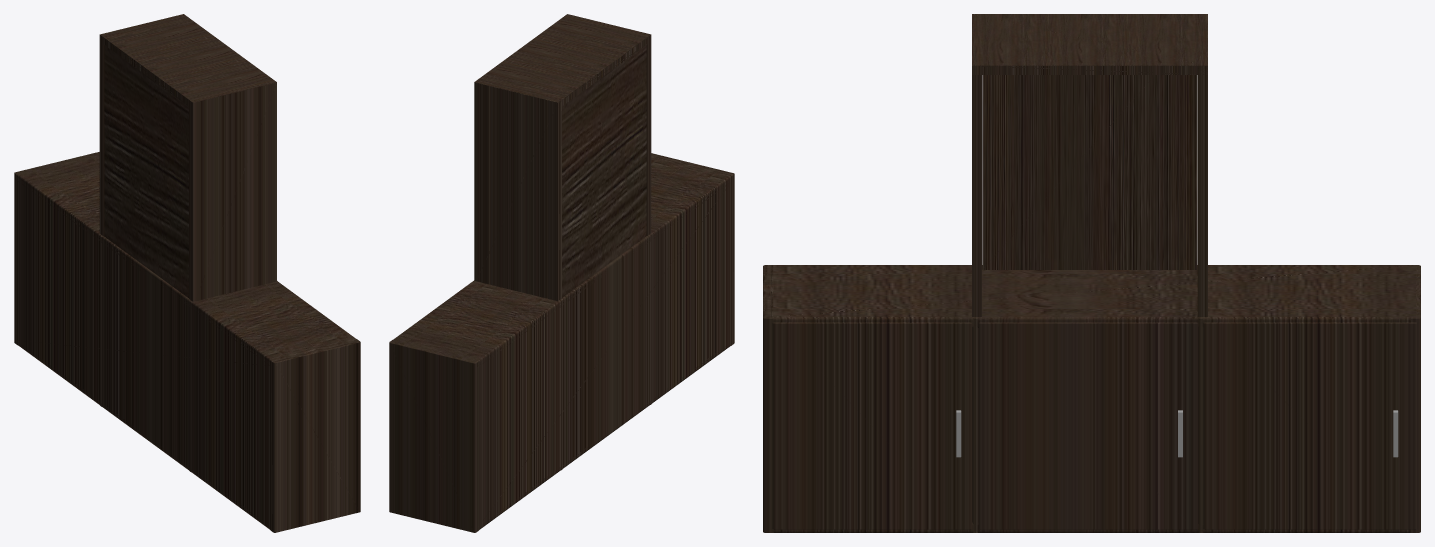
Rendered from Lemari_Ruang_Tamu.fbx.
The picture shows the model from 3 angles, left to right: view 1: azimuth 30°, elevation 25°; view 2: azimuth 150°, elevation 25°; view 3: azimuth 270°, elevation 25°; orthographic projection. The views are drawn at different scales.
Parts seen in each view (by area): view 1: pCube26, pCube29, pCube31, pCube30, pCube28; view 2: pCube26, pCube28, pCube31, pCube30, pCube29; view 3: pCube26, pCube31, pCube30, pCube28, pCube29.
Part boxes in pixels (x1,y1,x2,y2): pCube26: [14, 152, 360, 532]; pCube29: [189, 82, 276, 301]; pCube31: [104, 45, 188, 297]; pCube30: [100, 14, 276, 106]; pCube28: [99, 34, 104, 236]; pCube26: [389, 153, 734, 532]; pCube28: [474, 82, 561, 301]; pCube31: [562, 45, 646, 297]; pCube30: [474, 14, 650, 106]; pCube29: [646, 35, 651, 235]; pCube26: [763, 265, 1420, 532]; pCube31: [982, 75, 1197, 269]; pCube30: [972, 14, 1207, 74]; pCube28: [1197, 14, 1207, 316]; pCube29: [972, 75, 981, 316].
Size of the model in its own units: 3.6 by 13.42 by 17.13.
